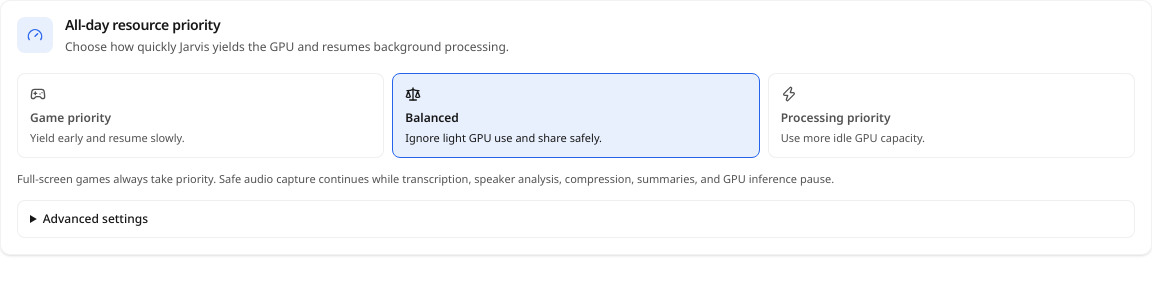
Test: ResourceGovernanceSettingsCard › loads balanced defaults and switches to the game-priority preset
Step 1. Click the button "Game priority Yield early and resume slowly." → point(70, 117), box [17,73,384,158]
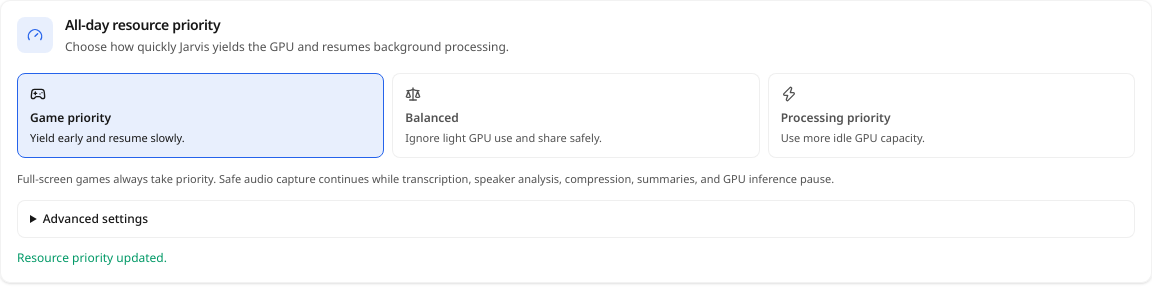
expect the text "Resource priority updated." is shown: met, box [17,249,167,266]
